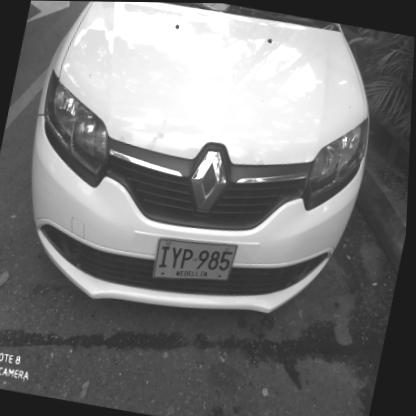placa: (146, 225, 247, 297)
